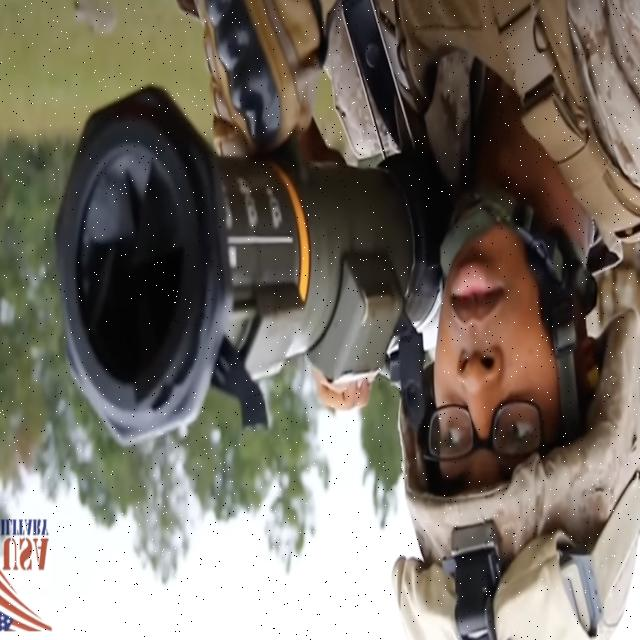bazooka: (27, 56, 479, 503)
